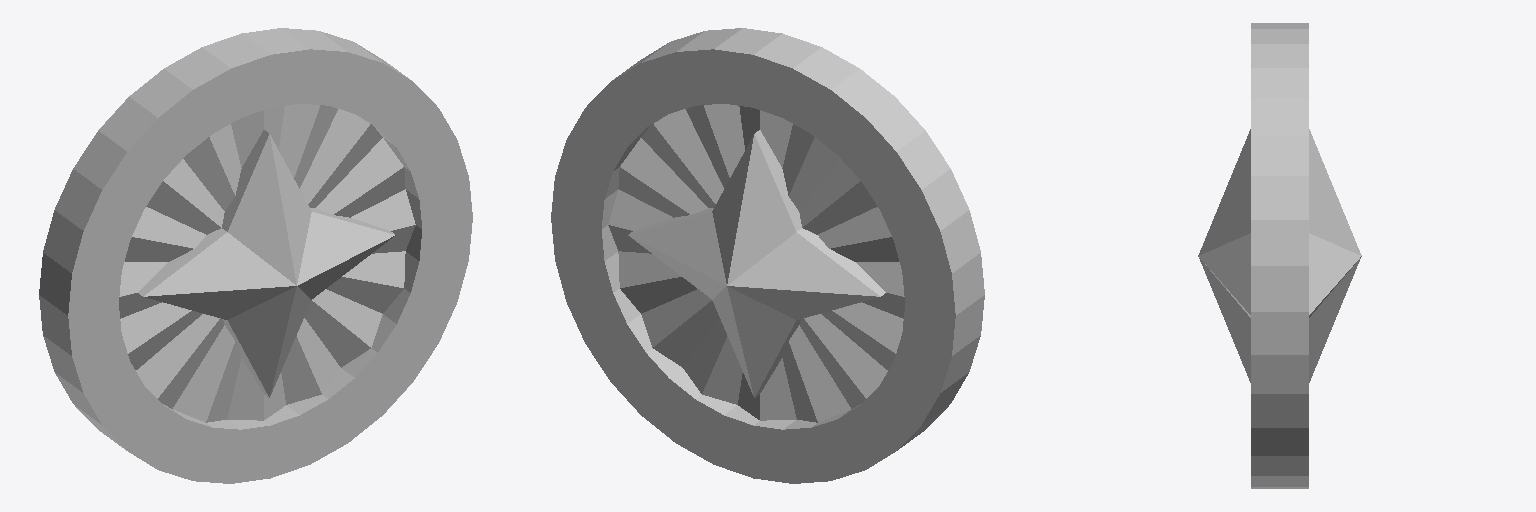
File: coin_star_4.obj
The picture shows the model from 3 angles: view 1: azimuth 30°, elevation 25°; view 2: azimuth 150°, elevation 25°; view 3: azimuth 270°, elevation 25°; orthographic projection.
Parts seen in each view (by area): view 1: Mesh2 Model, Mesh1 Group1 Model; view 2: Mesh2 Model, Mesh1 Group1 Model; view 3: Mesh2 Model, Mesh1 Group1 Model.
Part boxes in pixels (x1,y1,x2,y2): Mesh2 Model: (39,28,472,483); Mesh1 Group1 Model: (138,130,395,397); Mesh2 Model: (551,28,984,483); Mesh1 Group1 Model: (628,130,885,397); Mesh2 Model: (1251,23,1308,488); Mesh1 Group1 Model: (1198,129,1361,382).
Bounding box in the file's own units: 12 × 12 × 4.2.